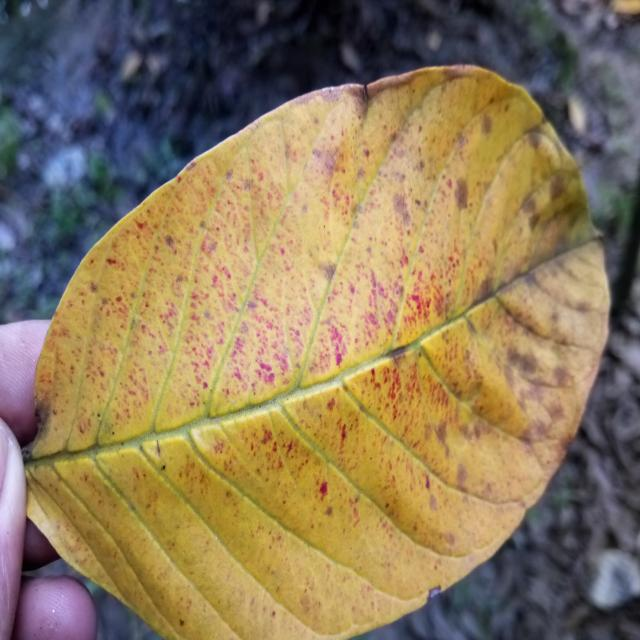Red Rust: (25, 67, 609, 639)
